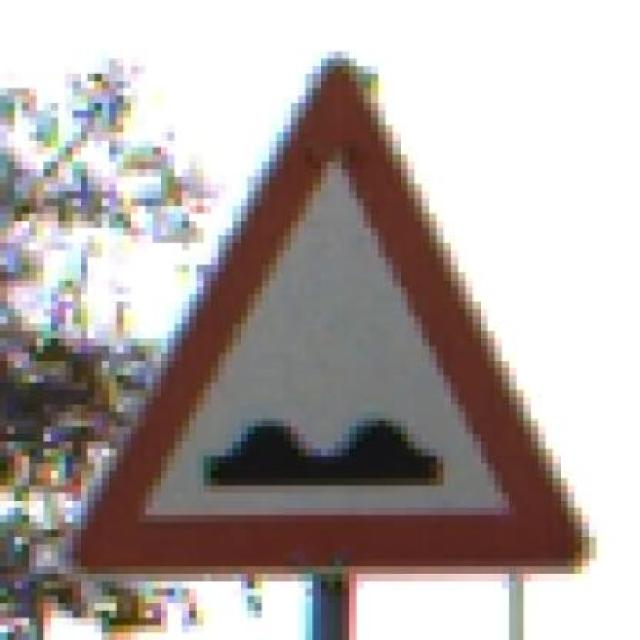Uneven Road: (51, 51, 611, 582)
